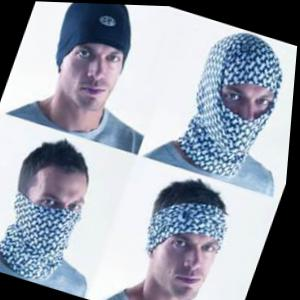NONE: (149, 224, 227, 300), (54, 45, 127, 119)
OK: (11, 177, 96, 261)
WRONG: (192, 71, 282, 159)
